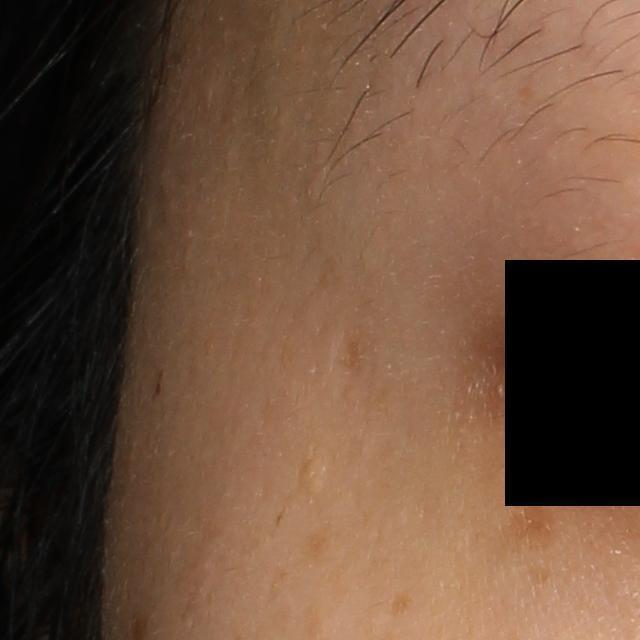comedo: (298, 452, 331, 493)
melasma: (499, 493, 560, 553), (329, 332, 374, 389), (299, 527, 338, 563), (390, 589, 412, 618), (271, 506, 289, 532)
